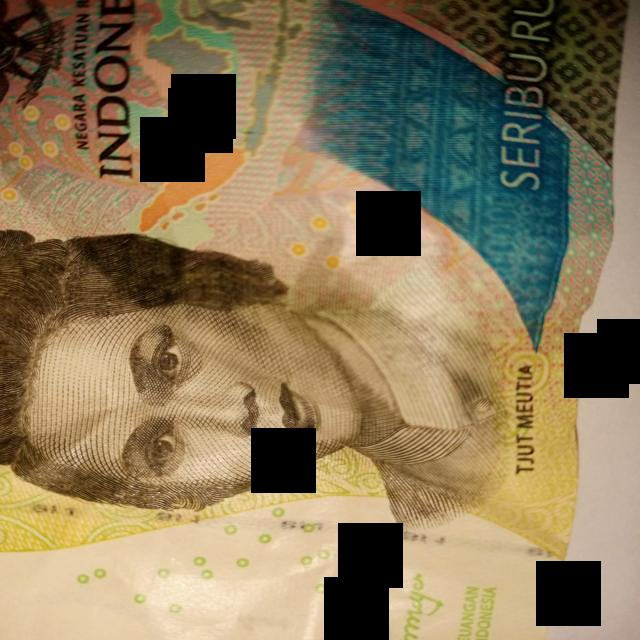seribu rupiah: (0, 0, 613, 639)
